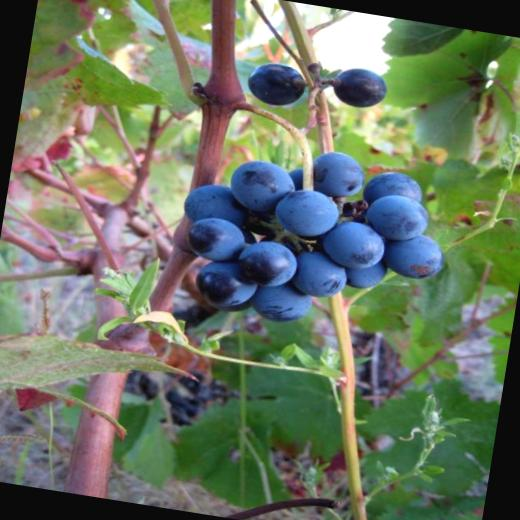Orange: (168, 130, 456, 346)
